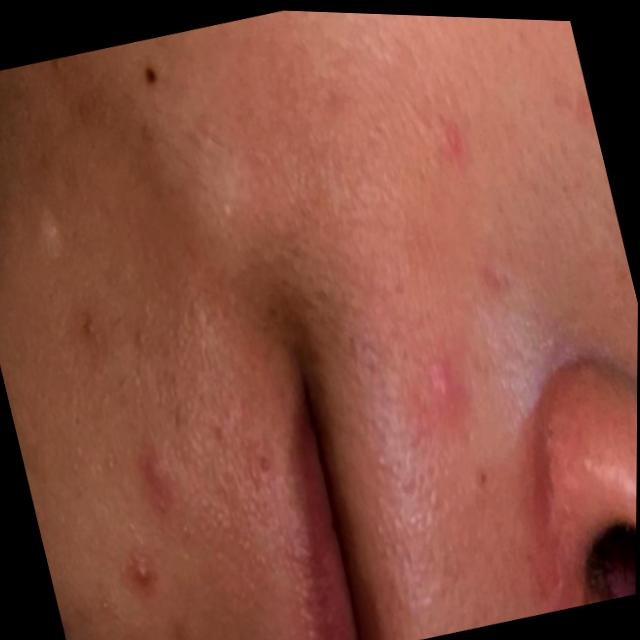papule: (117, 417, 197, 542), (418, 313, 478, 436)
pustule: (106, 543, 168, 610)
